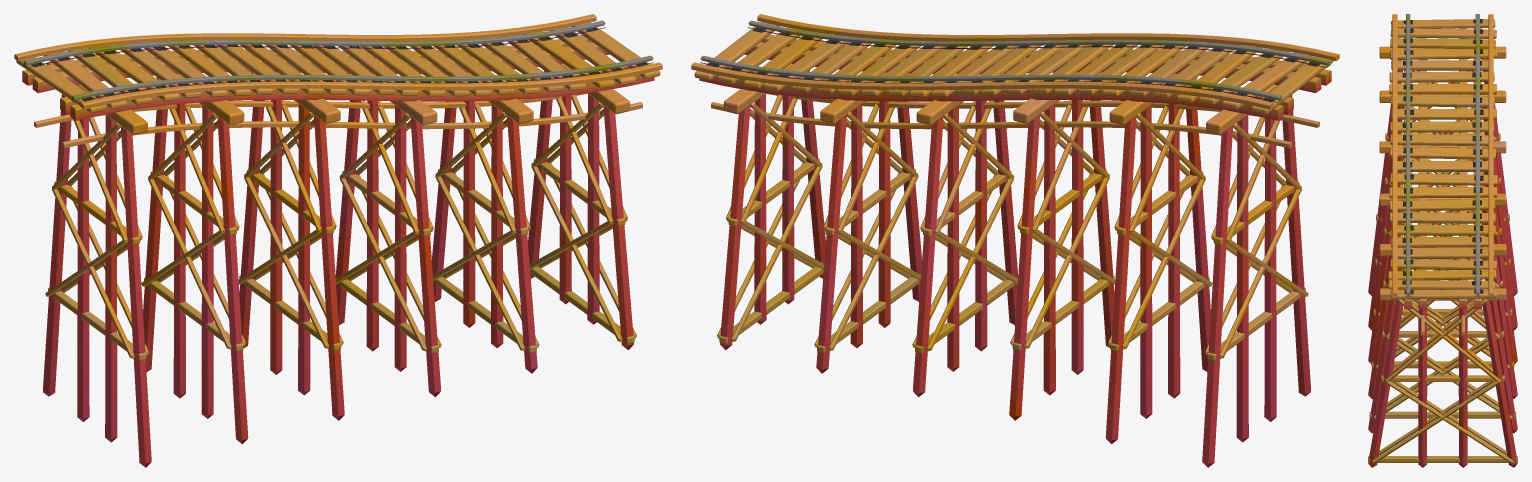
The model's file is Track_Ramp_Down_18m_Steep.glb.
3 renders of one model, left to right at view 1: azimuth 30°, elevation 25°; view 2: azimuth 150°, elevation 25°; view 3: azimuth 270°, elevation 25°, orthographic. The views are drawn at different scales.
Visible parts, largest first — view 1: Track_Ramp_Down_18m_Steep; view 2: Track_Ramp_Down_18m_Steep; view 3: Track_Ramp_Down_18m_Steep.
Part boxes in pixels (<box>): Track_Ramp_Down_18m_Steep: <box>14,14,662,467</box>; Track_Ramp_Down_18m_Steep: <box>691,14,1339,467</box>; Track_Ramp_Down_18m_Steep: <box>1368,14,1517,467</box>.
Bounding box in the file's own units: 18 × 10.85 × 5.55.
